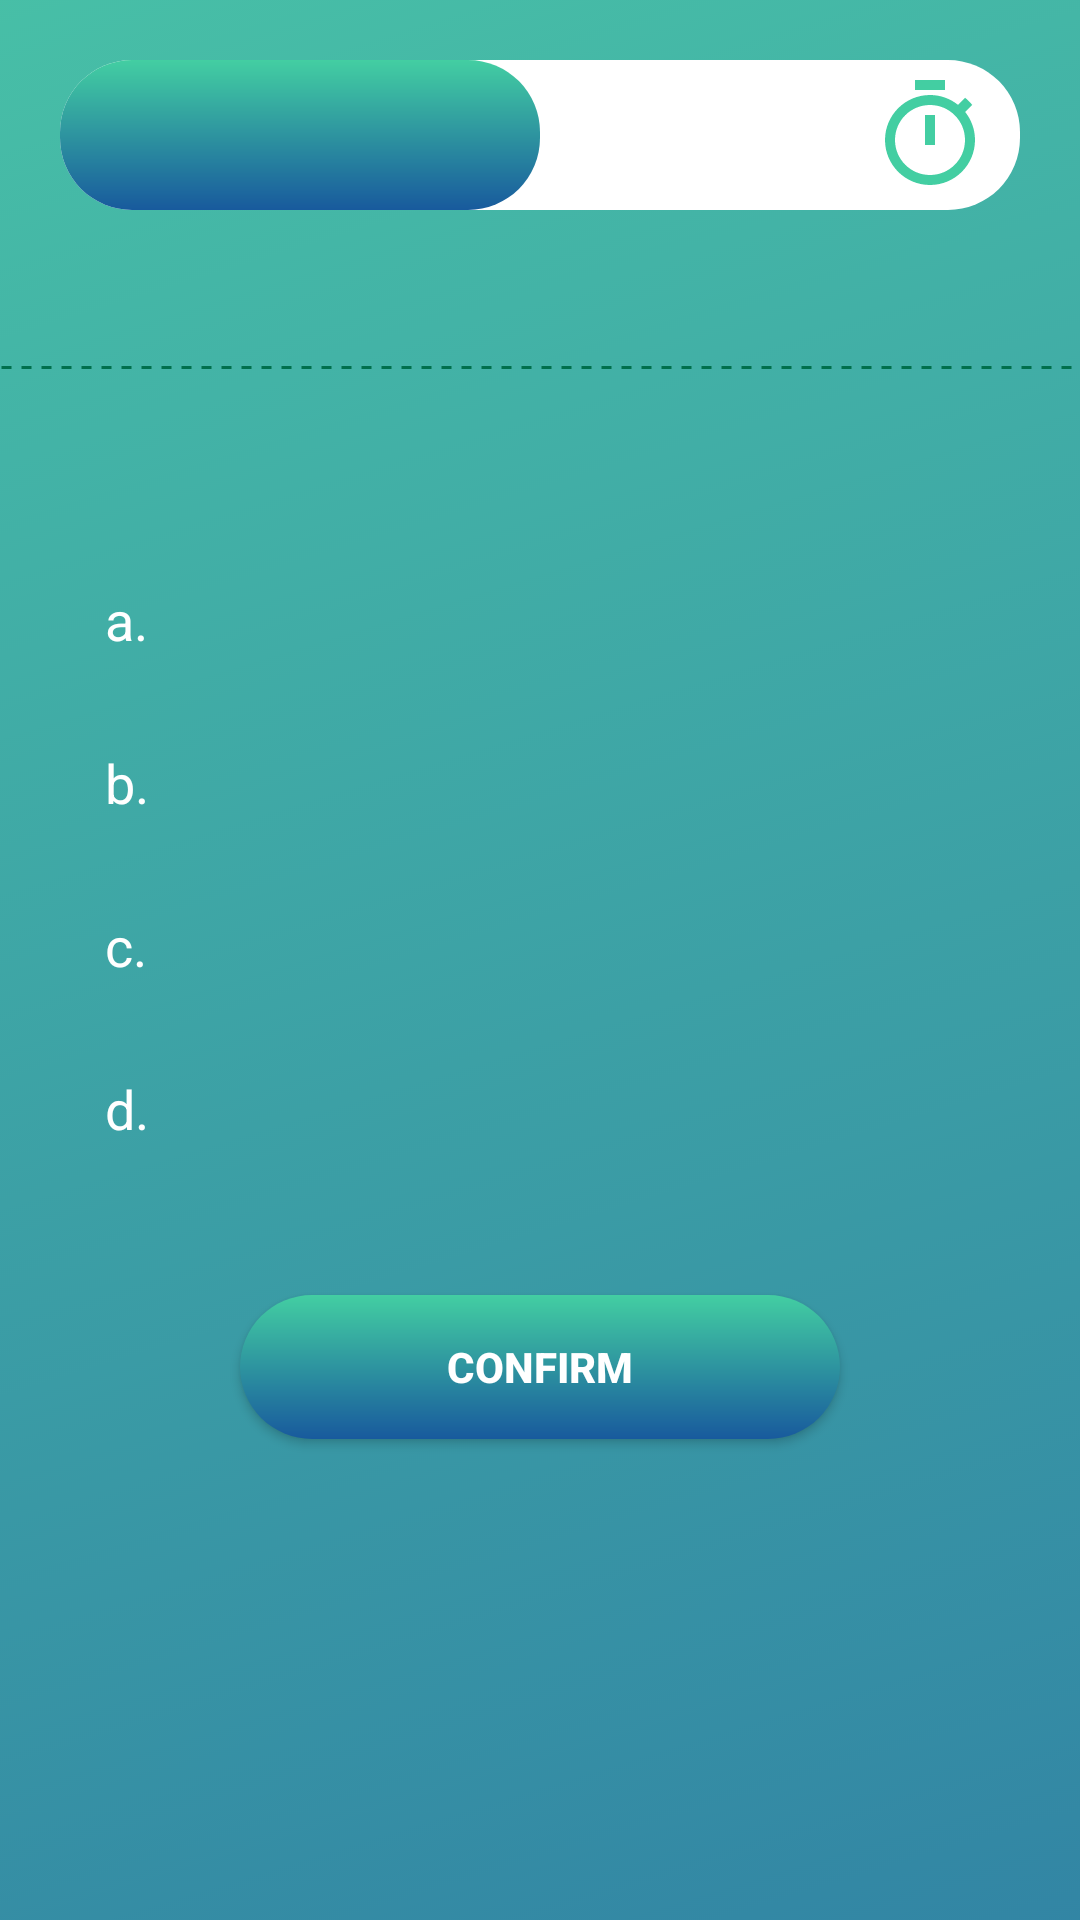

Icons on this 1080px x 1920px Android screen, each with its box as (x1=x1, y1=y1, x2=x2, y2=y2):
timer: (x1=885, y1=80, x2=975, y2=185)
